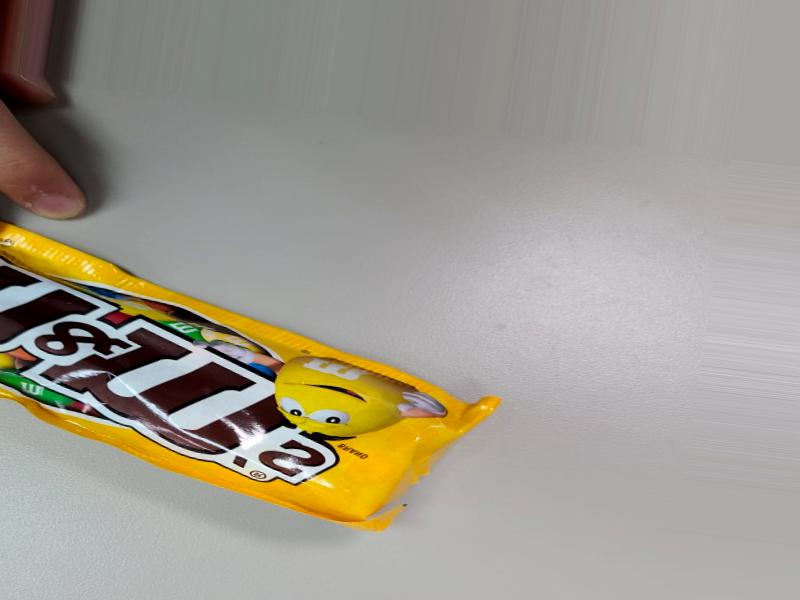m&m: (60, 232, 397, 504)
